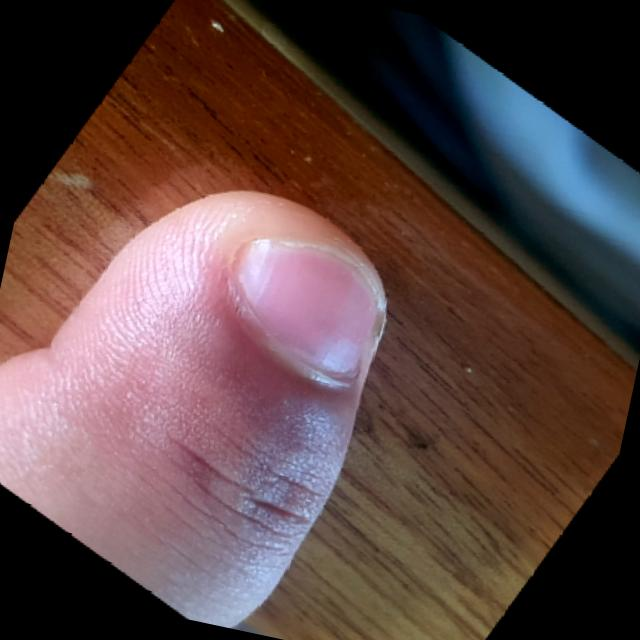Nail: (240, 234, 381, 379)
